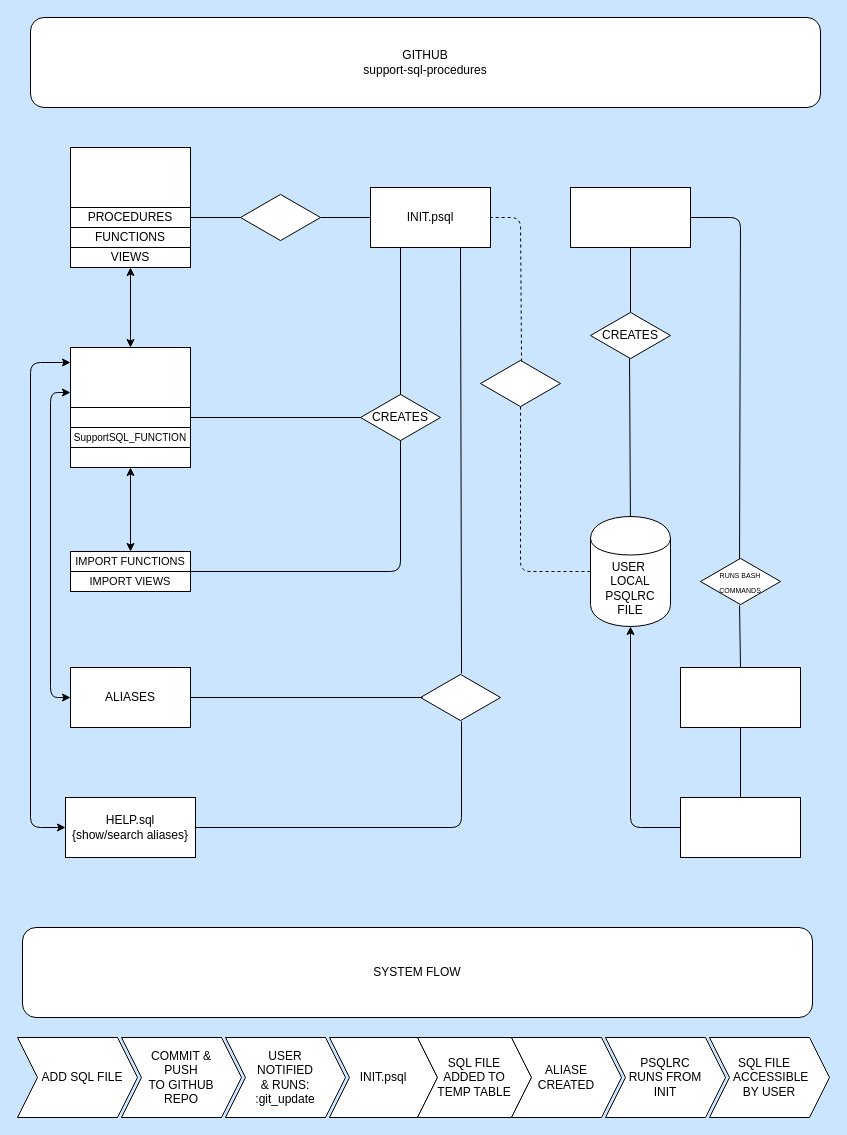
Image size: 847x1135. Some labels were removed from this diagram. The centre of each missing label's shape, as x and y in pixels:
GIT_UPDATE {pull from repository}: the point at 740,827
INCLUDES: the point at 280,217
INSTALL(shell): the point at 630,217
LINKS: the point at 520,383
SETS: the point at 460,697
SQL FILES: the point at 130,177
SupportSQL_PROCEDURES: the point at 130,417
SupportSQL_VIEWS: the point at 130,457
TEMPORARY TABLES: the point at 130,377
UPDATE PSQL: the point at 740,697
